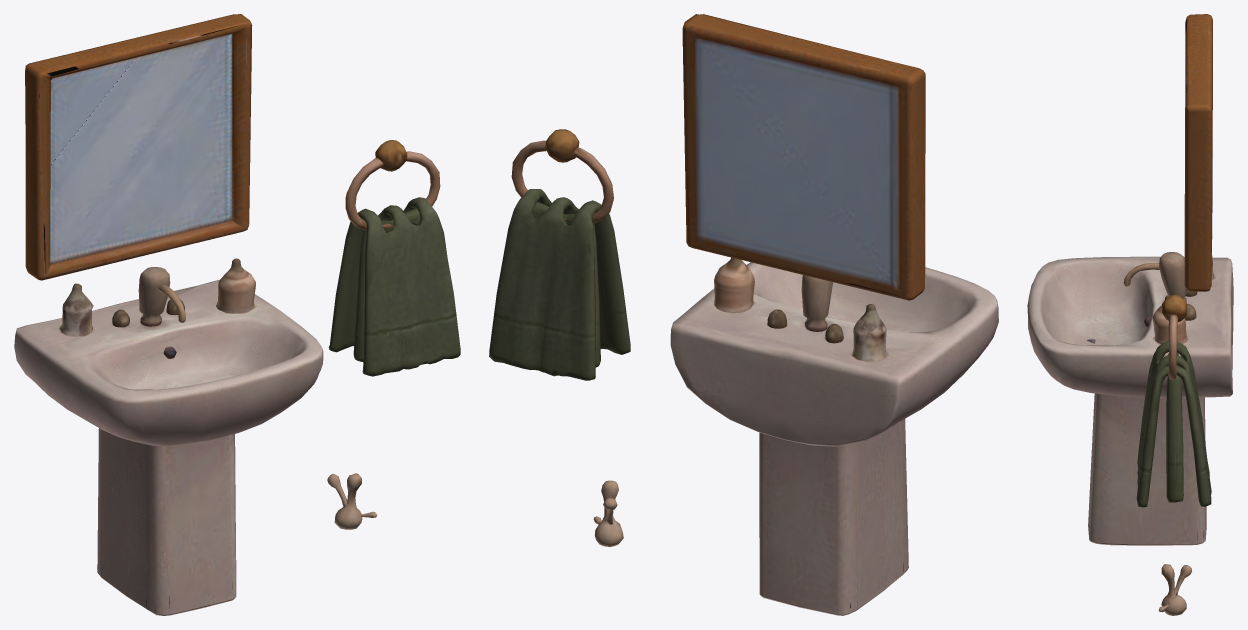
Rendered from bathroom_sink_set.glb.
3 views of the same model, side by side, from view 1: azimuth 30°, elevation 25°; view 2: azimuth 150°, elevation 25°; view 3: azimuth 270°, elevation 25° (orthographic). The views are drawn at different scales.
Parts seen in each view (by area): view 1: geometry_0; view 2: geometry_0; view 3: geometry_0.
Part boxes in pixels (<box>): geometry_0: <box>14,14,460,615</box>; geometry_0: <box>489,14,998,615</box>; geometry_0: <box>1027,14,1233,615</box>.
Size of the model in its own units: 0.8042 by 1 by 0.4002.
Materials: 1 (1 with a texture image).
